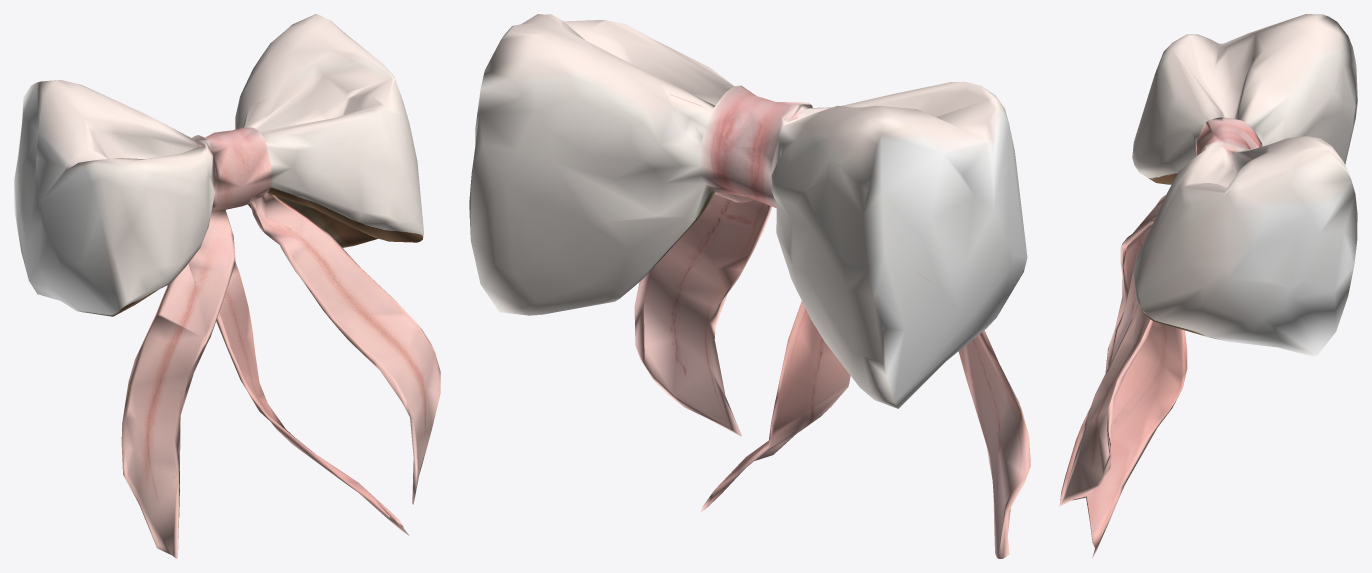
The model's file is regr_hair_ribbon.fbx.
3 views of the same model, side by side, from view 1: azimuth 30°, elevation 25°; view 2: azimuth 150°, elevation 25°; view 3: azimuth 270°, elevation 25° (orthographic). The views are drawn at different scales.
Parts seen in each view (by area): view 1: Mesh1.0; view 2: Mesh1.0; view 3: Mesh1.0.
Part boxes in pixels (x1=…): Mesh1.0: x1=14, y1=14, x2=440, y2=558; Mesh1.0: x1=469, y1=14, x2=1030, y2=558; Mesh1.0: x1=1059, y1=14, x2=1357, y2=558.
Bounding box in the file's own units: 166 × 190 × 121.
Materials: 1 (1 with a texture image).
